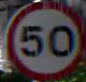Speed limit: (6, 1, 85, 78)
